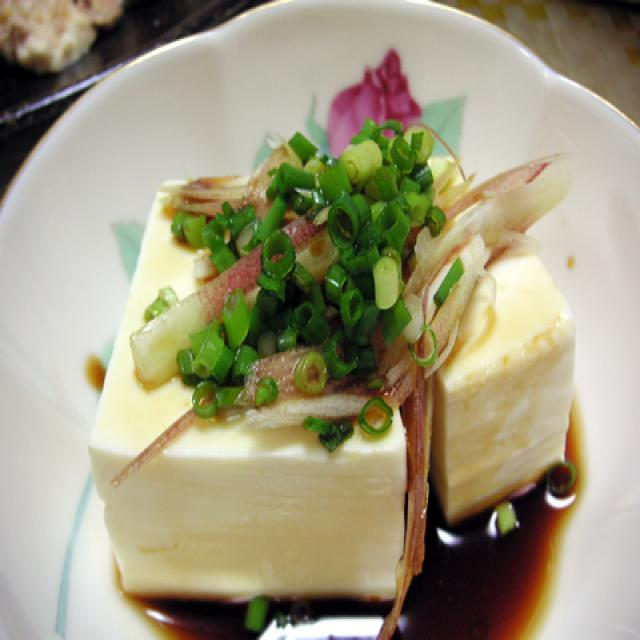豆腐料理: (84, 119, 577, 640)
